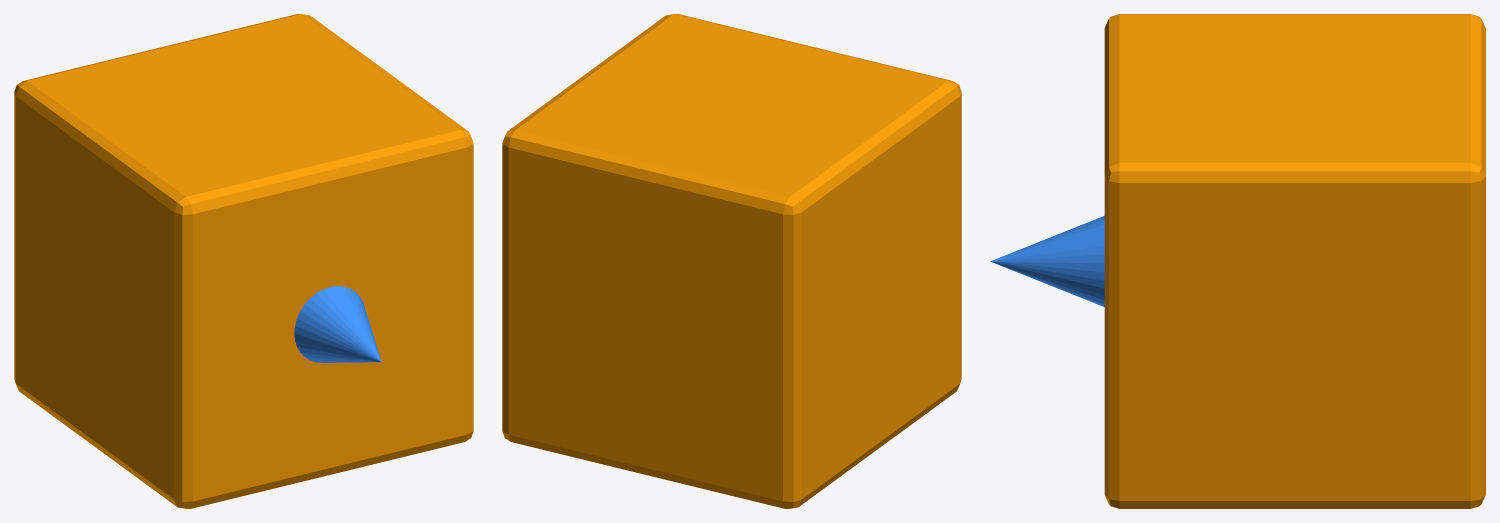
The model's file is PT_PipelineTest_Crate.glb.
The picture shows the model from 3 angles, left to right: view 1: azimuth 30°, elevation 25°; view 2: azimuth 150°, elevation 25°; view 3: azimuth 270°, elevation 25°; orthographic projection. The views are drawn at different scales.
Visible parts, largest first — view 1: SM_PT_PipelineTest_Crate_Body, SM_PT_PipelineTest_Crate_FrontMarker; view 2: SM_PT_PipelineTest_Crate_Body; view 3: SM_PT_PipelineTest_Crate_Body, SM_PT_PipelineTest_Crate_FrontMarker.
Part boxes in pixels (x1,y1,x2,y2): SM_PT_PipelineTest_Crate_Body: [14, 14, 473, 508]; SM_PT_PipelineTest_Crate_FrontMarker: [294, 286, 381, 362]; SM_PT_PipelineTest_Crate_Body: [502, 14, 961, 508]; SM_PT_PipelineTest_Crate_Body: [1104, 14, 1485, 508]; SM_PT_PipelineTest_Crate_FrontMarker: [990, 216, 1104, 306].
Size of what is drawn, in the model's own units: 1 by 1 by 1.3.
